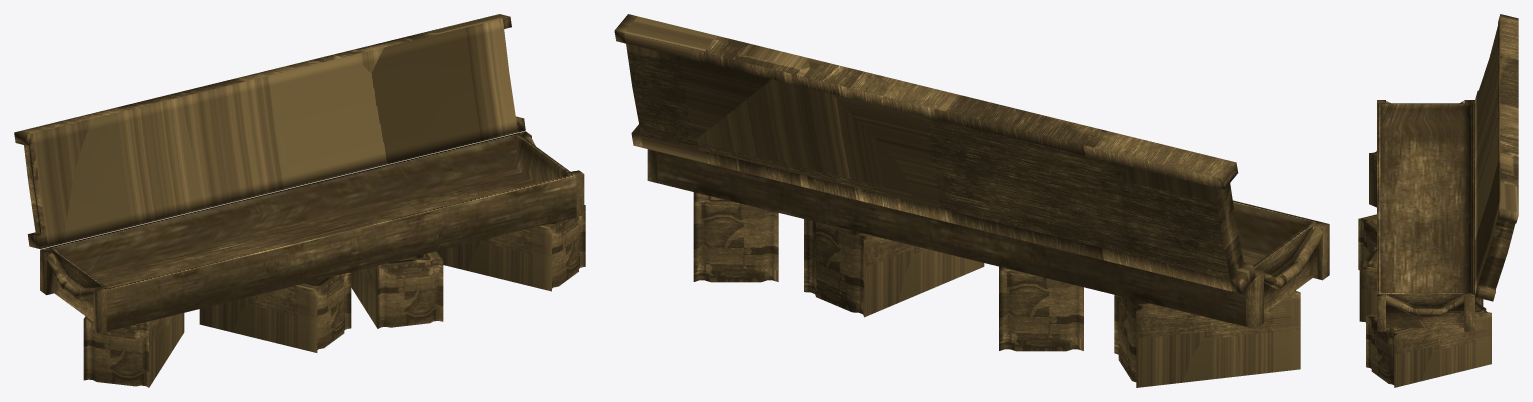
The model's file is Mysterybox.fbx.
The picture shows the model from 3 angles, left to right: view 1: azimuth 30°, elevation 25°; view 2: azimuth 150°, elevation 25°; view 3: azimuth 270°, elevation 25°; orthographic projection. The views are drawn at different scales.
Visible parts, largest first — view 1: g.011, g, g.002, g.015, g.008, g.012, g.004; view 2: g.011, g, g.012, g.008, g.015, g.002, g.004; view 3: g, g.011, g.015, g.008, g.002, g.005, g.012.
Boxes of the visible parts, left/top/right/bottom form: g.011: left=14, top=14, right=525, bottom=248; g: left=40, top=131, right=584, bottom=333; g.002: left=199, top=272, right=351, bottom=352; g.015: left=437, top=205, right=585, bottom=291; g.008: left=351, top=251, right=443, bottom=328; g.012: left=83, top=313, right=184, bottom=387; g.004: left=46, top=253, right=96, bottom=299; g.011: left=614, top=14, right=1255, bottom=293; g: left=647, top=149, right=1329, bottom=329; g.012: left=1114, top=290, right=1300, bottom=387; g.008: left=804, top=219, right=984, bottom=317; g.015: left=693, top=192, right=778, bottom=282; g.002: left=999, top=266, right=1083, bottom=351; g.004: left=1257, top=227, right=1323, bottom=288; g: left=1377, top=100, right=1474, bottom=331; g.011: left=1475, top=14, right=1518, bottom=301; g.015: left=1366, top=300, right=1491, bottom=387; g.008: left=1359, top=247, right=1483, bottom=322; g.002: left=1358, top=214, right=1376, bottom=270; g.005: left=1386, top=295, right=1463, bottom=316; g.012: left=1369, top=150, right=1376, bottom=207.
Size of the model in its own units: 307 by 122 by 103.
Materials: 8 (8 with a texture image).
